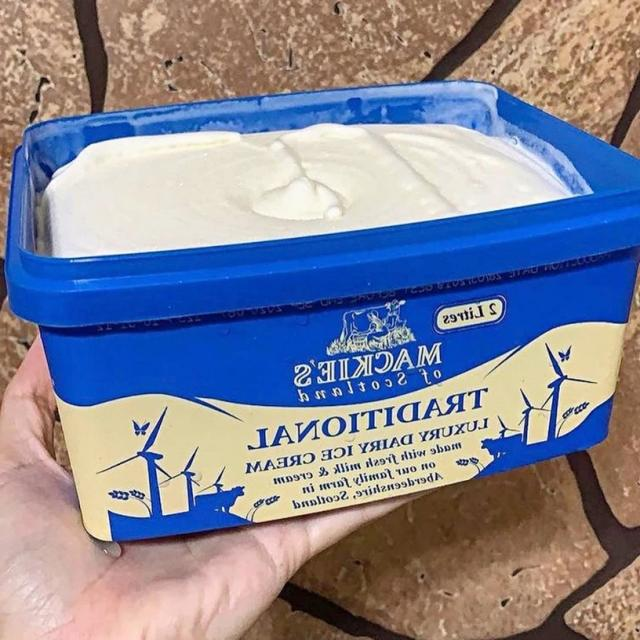plastic: (4, 73, 635, 550)
